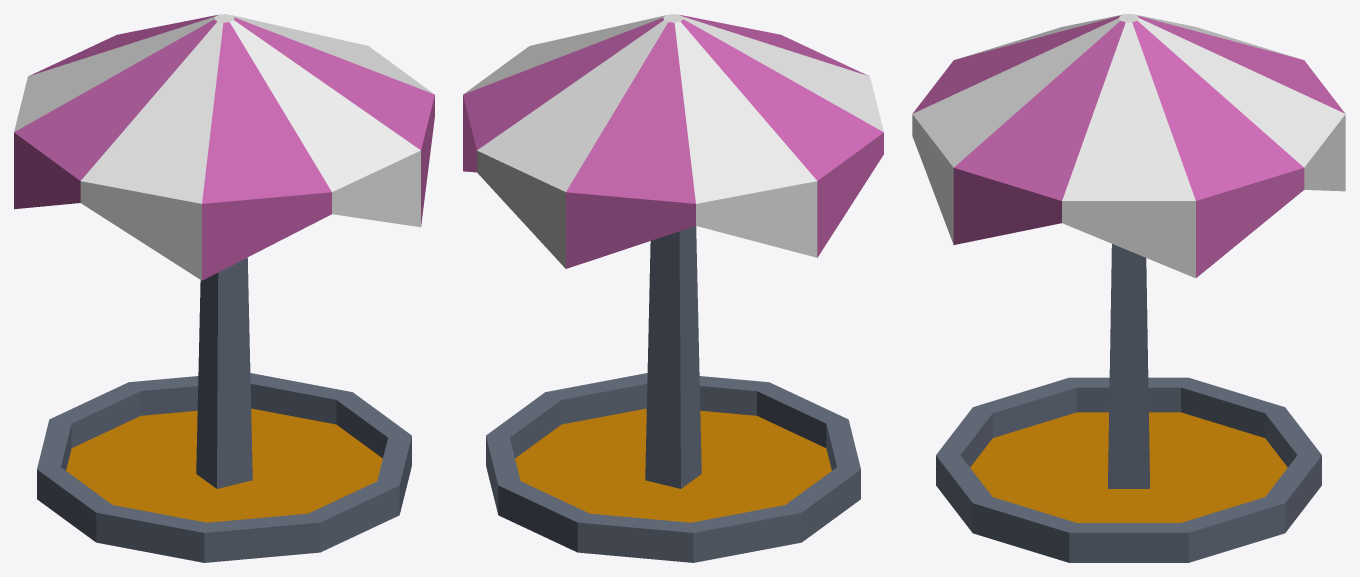
The model's file is Sandbox 1.fbx.
The picture shows the model from 3 angles, left to right: view 1: azimuth 30°, elevation 25°; view 2: azimuth 150°, elevation 25°; view 3: azimuth 270°, elevation 25°; orthographic projection.
Visible parts, largest first — view 1: Sandbox_01; view 2: Sandbox_01; view 3: Sandbox_01.
Boxes of the visible parts, x1,y1,x2,y2 form: Sandbox_01: (14,14,434,562); Sandbox_01: (463,14,883,562); Sandbox_01: (912,14,1345,562).
Size of the model in its own units: 120 by 150 by 126.
